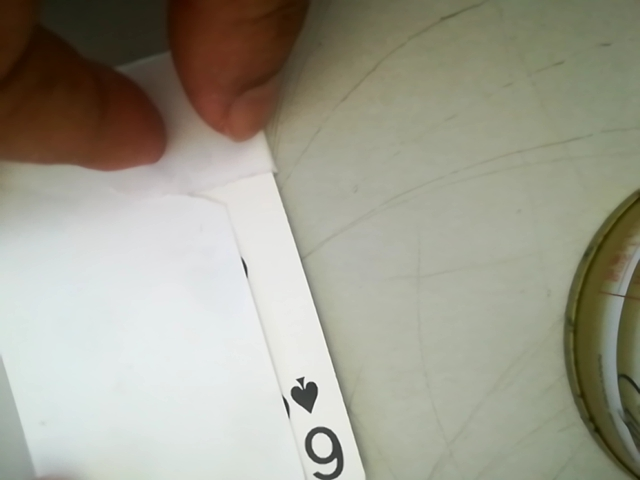ht 6: (279, 364, 355, 480)
